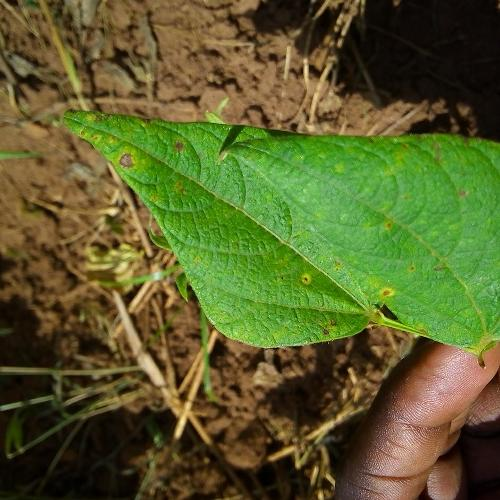hawar: (86, 118, 141, 182), (310, 312, 340, 340), (372, 278, 393, 300), (296, 271, 314, 290)
mozaik: (400, 148, 500, 297), (220, 173, 284, 335)
